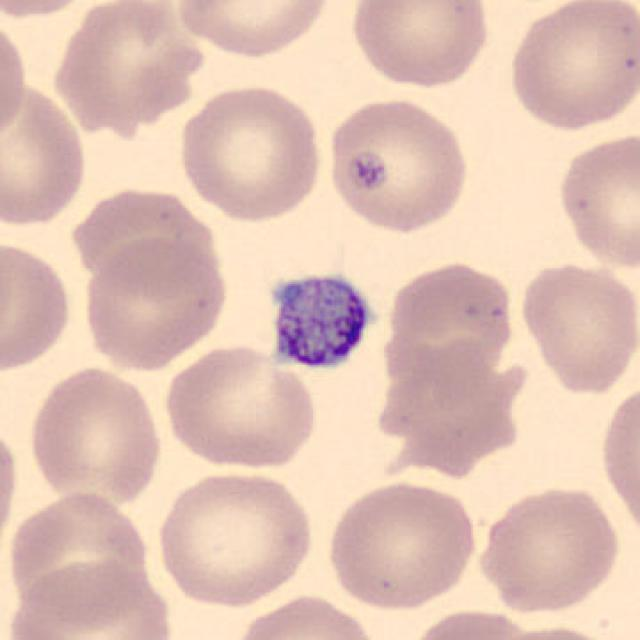Platelets: (261, 264, 379, 374), (341, 143, 398, 200)
RBC: (153, 465, 318, 610), (174, 81, 326, 226), (322, 476, 480, 612), (375, 337, 526, 479), (48, 0, 208, 134), (78, 233, 231, 372), (160, 342, 322, 473), (325, 94, 473, 236), (25, 363, 165, 510), (473, 481, 624, 617), (4, 488, 154, 622), (382, 256, 519, 393), (503, 0, 638, 132), (516, 257, 638, 398), (66, 183, 220, 293), (4, 555, 178, 640), (0, 76, 91, 229), (347, 0, 494, 92), (553, 128, 638, 272), (0, 234, 76, 377), (172, 0, 334, 60), (229, 590, 383, 640), (595, 375, 640, 544), (403, 606, 547, 640), (0, 10, 30, 152), (0, 414, 23, 564), (484, 622, 624, 640), (0, 0, 108, 19)
